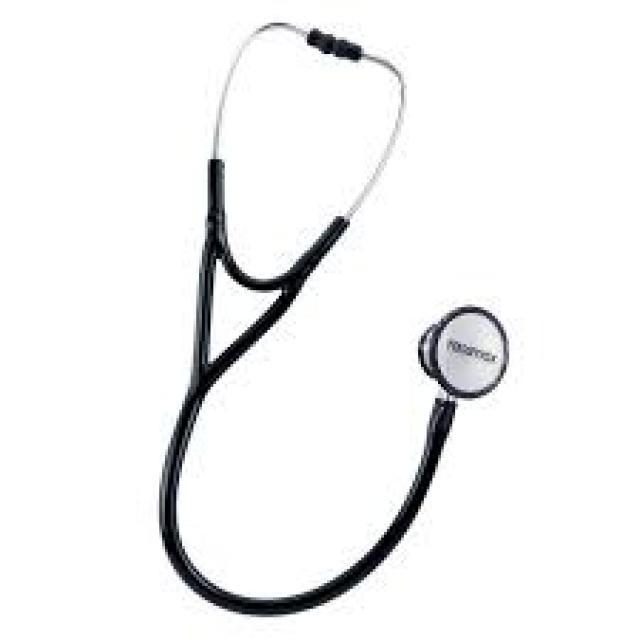stethoscope: (164, 31, 529, 606)
